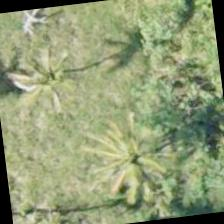Kelapa_Sawit: (83, 112, 183, 212), (0, 21, 84, 122)
